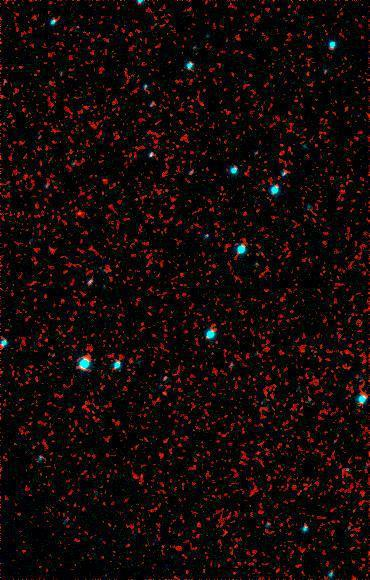star: (65, 199, 95, 229)
